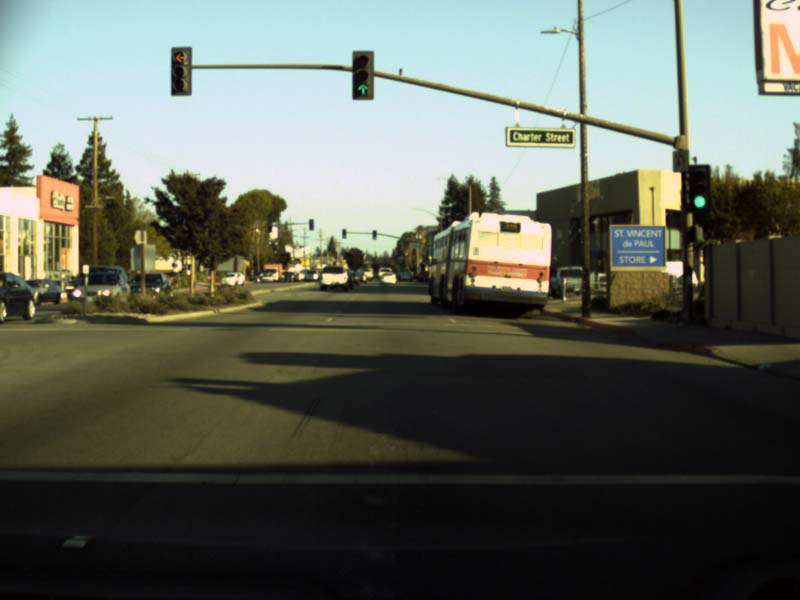Green: (685, 165, 708, 210), (351, 49, 372, 98), (371, 229, 377, 239), (341, 228, 346, 238)
Red: (170, 47, 192, 96)
